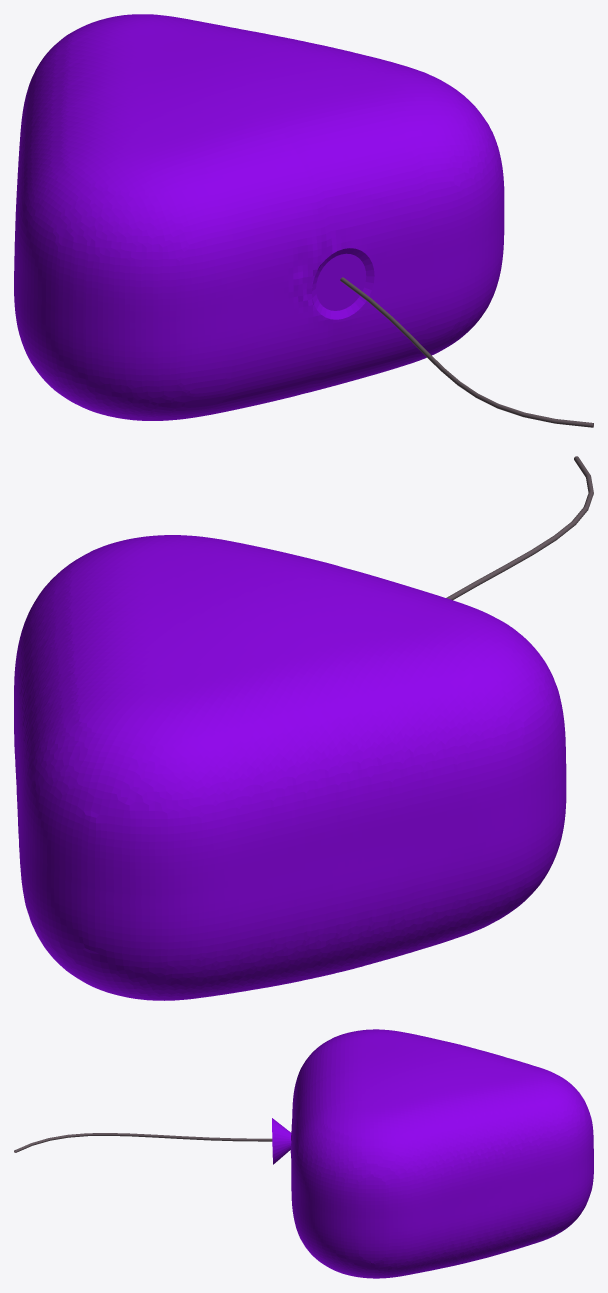
The model's file is loco_1_balloon1.glb.
3 renders of one model, top to bottom at view 1: azimuth 30°, elevation 25°; view 2: azimuth 150°, elevation 25°; view 3: azimuth 270°, elevation 25°, orthographic. The views are drawn at different scales.
Parts seen in each view (by area): view 1: Curve.003, 원뿔, BézierCurve; view 2: Curve.003, BézierCurve; view 3: Curve.003, BézierCurve, 원뿔.
Part boxes in pixels (box(x1,y1,x2,y2)): Curve.003: box(14, 14, 504, 420); 원뿔: box(311, 248, 374, 319); BézierCurve: box(340, 277, 593, 427); Curve.003: box(14, 535, 566, 1000); BézierCurve: box(446, 456, 593, 600); Curve.003: box(290, 1029, 593, 1278); BézierCurve: box(14, 1133, 272, 1152); 원뿔: box(272, 1118, 291, 1164).
Bounding box in the file's own units: 1.04 × 0.6253 × 1.89.
